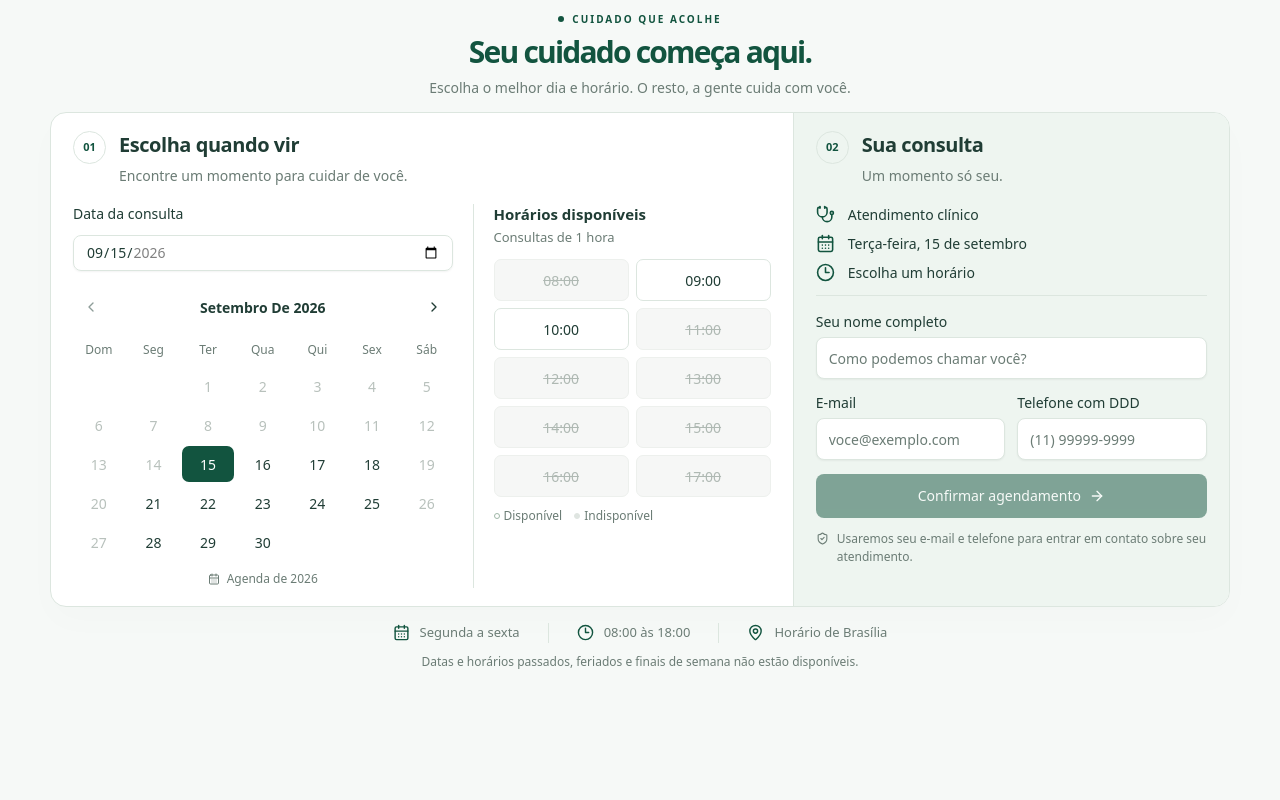
Test: booking form › clears the selected time immediately when the user changes date
Click the radio button labelled "09:00" at (703, 280), box left=636, top=259, right=771, bottom=301
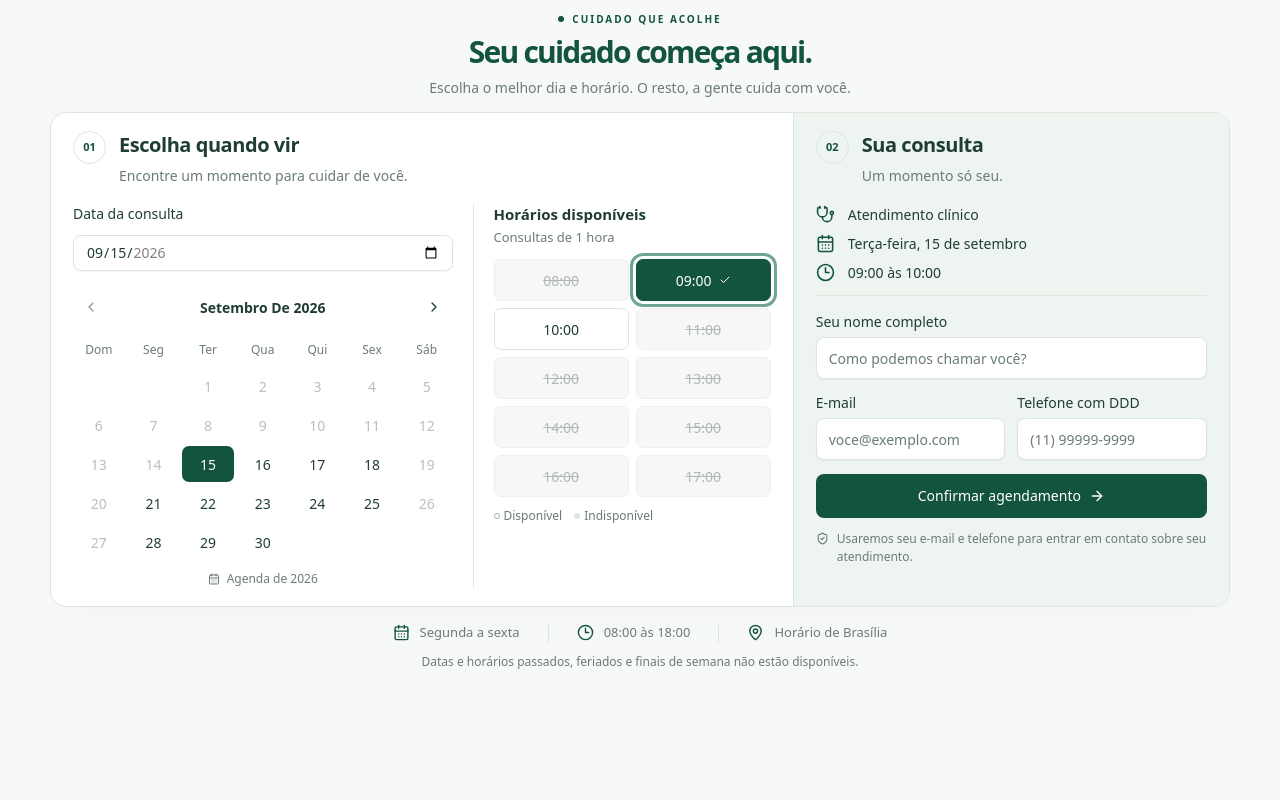
Type "2026-09-16" into the date field labelled "Data da consulta" at (263, 253), box left=73, top=235, right=452, bottom=271
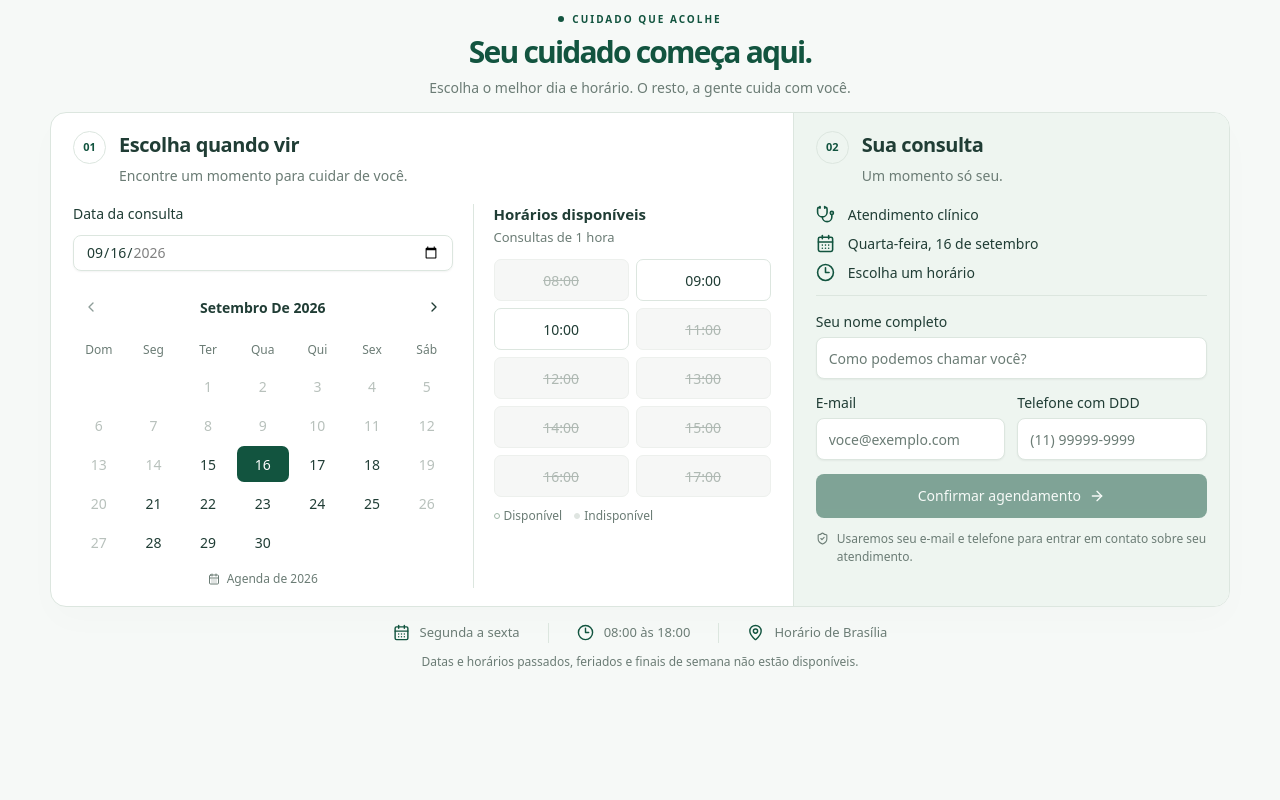
expect the button "Confirmar agendamento" is disabled: met, box left=816, top=474, right=1207, bottom=518
